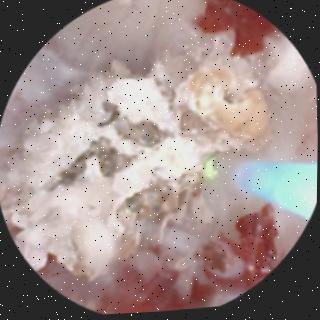fiber: (238, 167, 318, 221)
laser: (206, 161, 217, 179)
stone: (3, 37, 272, 283)
